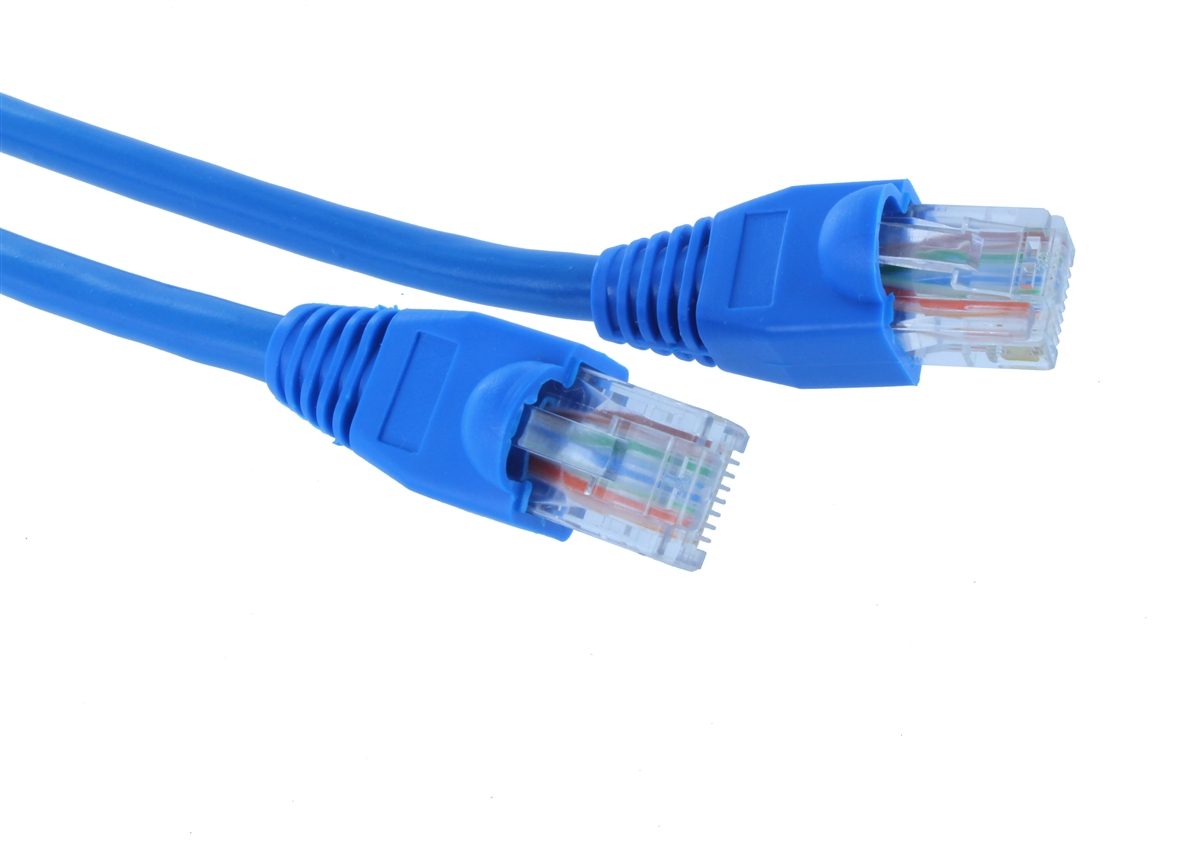Nonrec_Tangler: (1, 84, 1118, 579)
